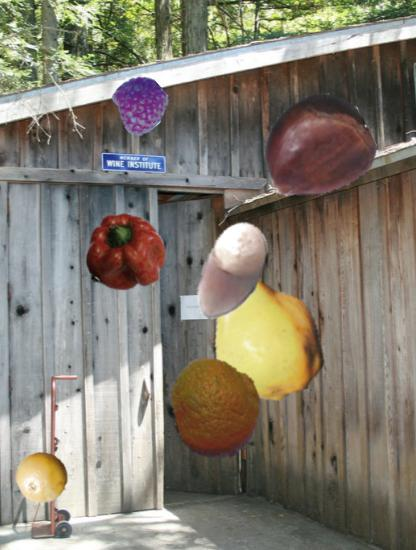Chestnut: (259, 91, 372, 204)
Grapefruit: (16, 451, 70, 505)
Hazelnut: (179, 219, 285, 325)
Mandarine: (164, 355, 268, 459)
Pepper: (82, 213, 167, 298)
Quince: (199, 273, 334, 408)
Raspberry: (113, 77, 168, 132)
